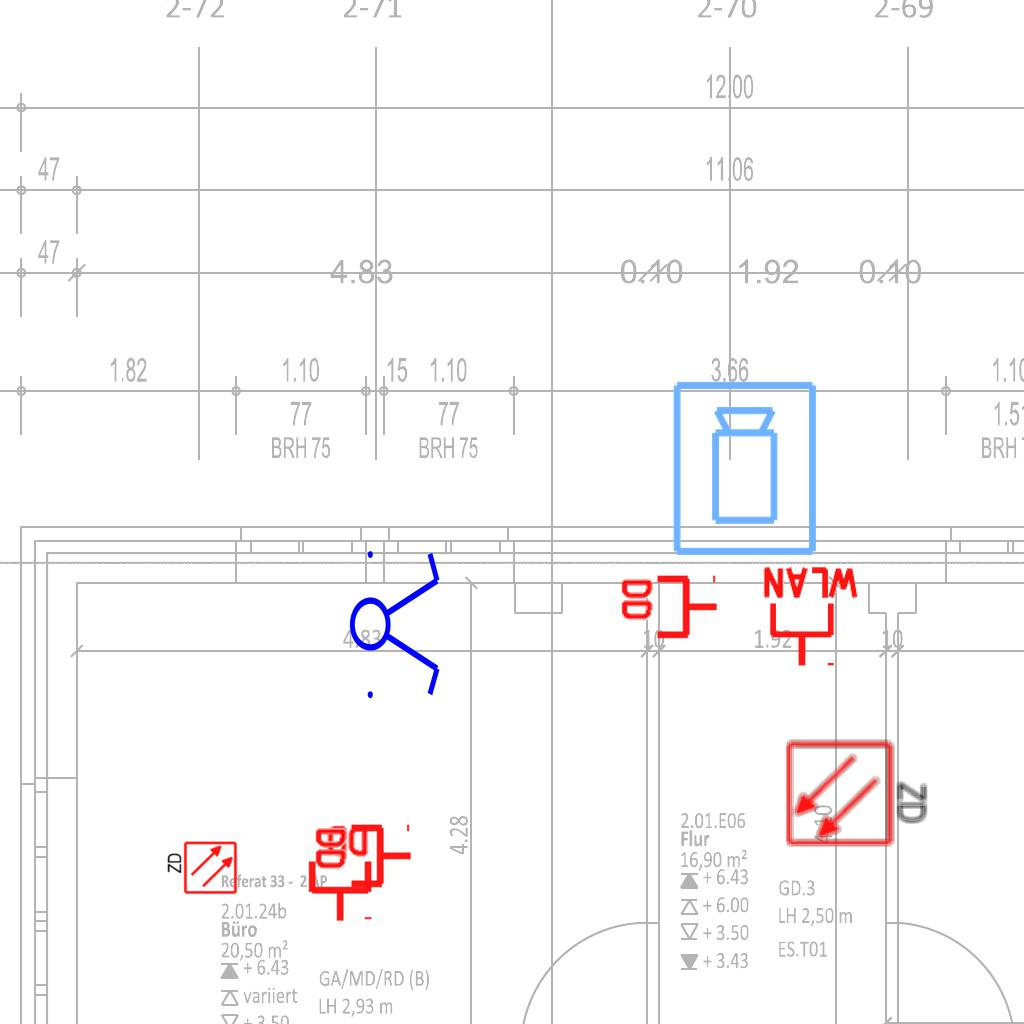Datenanschluss_zweifach: (304, 821, 373, 924), (617, 574, 720, 643), (311, 823, 414, 892)
KFO_Kamera_mit_Festobjektiv: (669, 378, 823, 560)
Serienschalter: (348, 539, 444, 707)
WLAN: (759, 565, 863, 670)
ZD_Melder_in_Zwischendecke_mit_Revisionsoeffnung_mind_40_x_40_cm: (784, 735, 933, 849), (164, 840, 238, 897)
